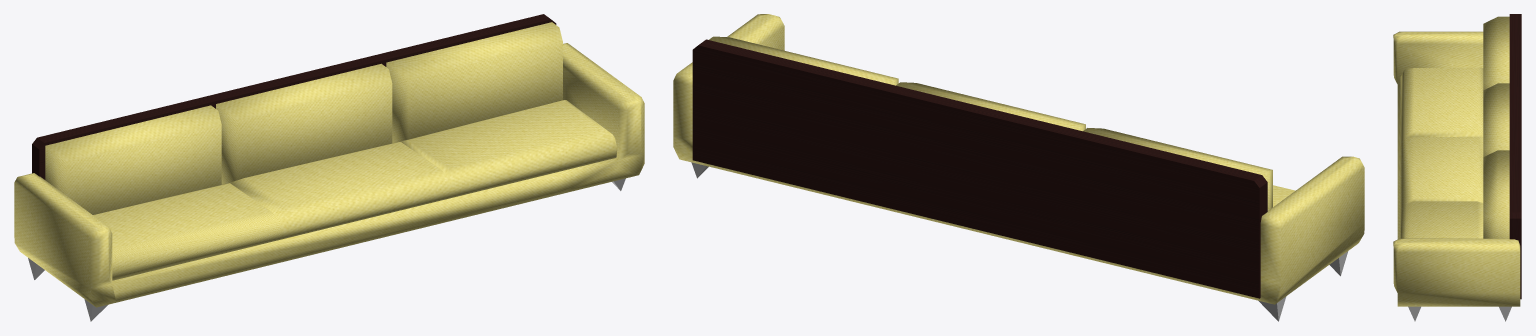
Rendered from Long_Sofa_H.FBX.
3 renders of one model, left to right at view 1: azimuth 30°, elevation 25°; view 2: azimuth 150°, elevation 25°; view 3: azimuth 270°, elevation 25°, orthographic. The views are drawn at different scales.
Parts seen in each view (by area): view 1: Long_Sofa; view 2: Long_Sofa; view 3: Long_Sofa.
Part boxes in pixels (<box>): Long_Sofa: <box>14,14,644,321</box>; Long_Sofa: <box>673,14,1364,321</box>; Long_Sofa: <box>1393,14,1521,321</box>.
Size of the model in its own units: 685 by 157 by 171.
